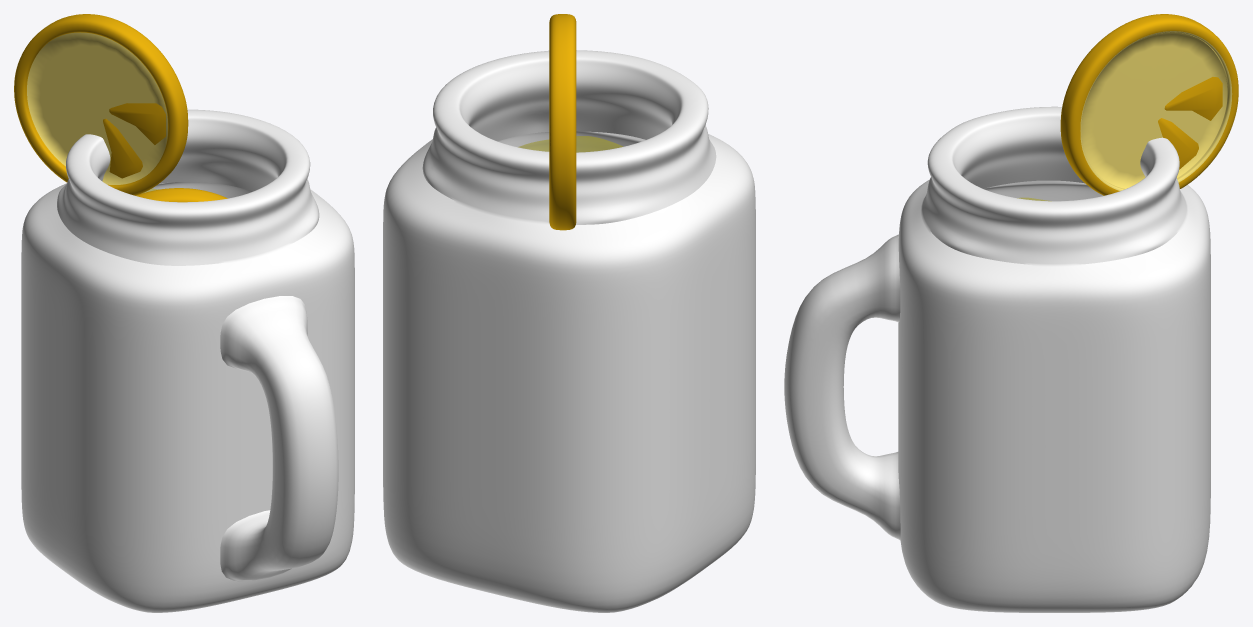
Rendered from drink5.glb.
3 renders of one model, left to right at view 1: azimuth 30°, elevation 25°; view 2: azimuth 150°, elevation 25°; view 3: azimuth 270°, elevation 25°, orthographic. The views are drawn at different scales.
Visible parts, largest first — view 1: Cube.080, Cube.079, Lemon.017, Sphere.029, Sphere.028, Lemon.018; view 2: Cube.080, Lemon.017, Cube.078; view 3: Cube.080, Lemon.017, Cube.079, Sphere.031, Sphere.030.
Part boxes in pixels (left/top/right/bottom): Cube.080: left=21, top=109, right=354, bottom=612; Cube.079: left=220, top=296, right=338, bottom=581; Lemon.017: left=14, top=14, right=188, bottom=195; Sphere.029: left=109, top=103, right=165, bottom=144; Sphere.028: left=103, top=118, right=142, bottom=178; Lemon.018: left=135, top=188, right=227, bottom=202; Cube.080: left=383, top=50, right=755, bottom=612; Lemon.017: left=549, top=14, right=576, bottom=230; Cube.078: left=518, top=136, right=622, bottom=152; Cube.080: left=898, top=106, right=1210, bottom=612; Lemon.017: left=1060, top=14, right=1238, bottom=195; Cube.079: left=784, top=234, right=900, bottom=540; Sphere.031: left=1164, top=77, right=1222, bottom=120; Sphere.030: left=1158, top=118, right=1198, bottom=169.
Bounding box in the file's own units: 4.38 × 8.05 × 6.36.
